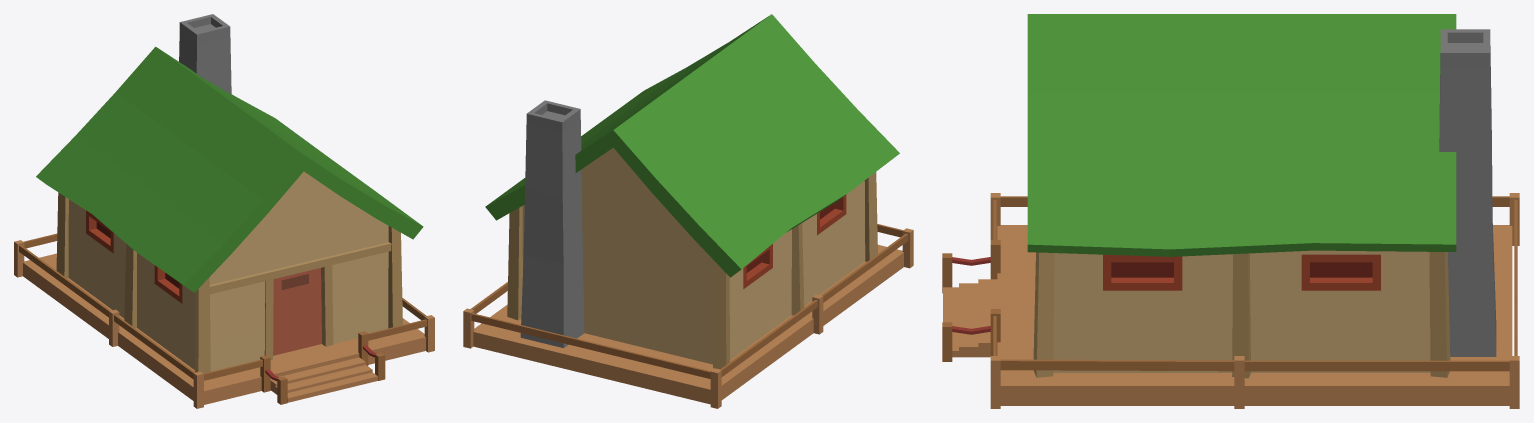
The model's file is House (1).FBX.
The picture shows the model from 3 angles, left to right: view 1: azimuth 30°, elevation 25°; view 2: azimuth 150°, elevation 25°; view 3: azimuth 270°, elevation 25°; orthographic projection. The views are drawn at different scales.
Visible parts, largest first — view 1: Object002; view 2: Object002; view 3: Object002.
Part boxes in pixels (bbox=[...]): Object002: bbox=[14, 14, 434, 408]; Object002: bbox=[463, 14, 913, 408]; Object002: bbox=[942, 14, 1519, 408].
Bounding box in the file's own units: 343 × 300 × 489.
1 material, 1 textured.
